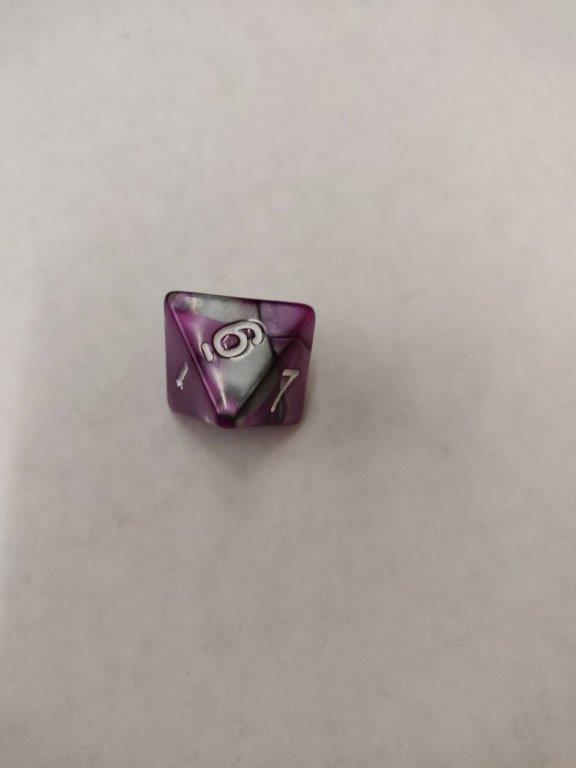d8-6: (161, 289, 318, 435)
